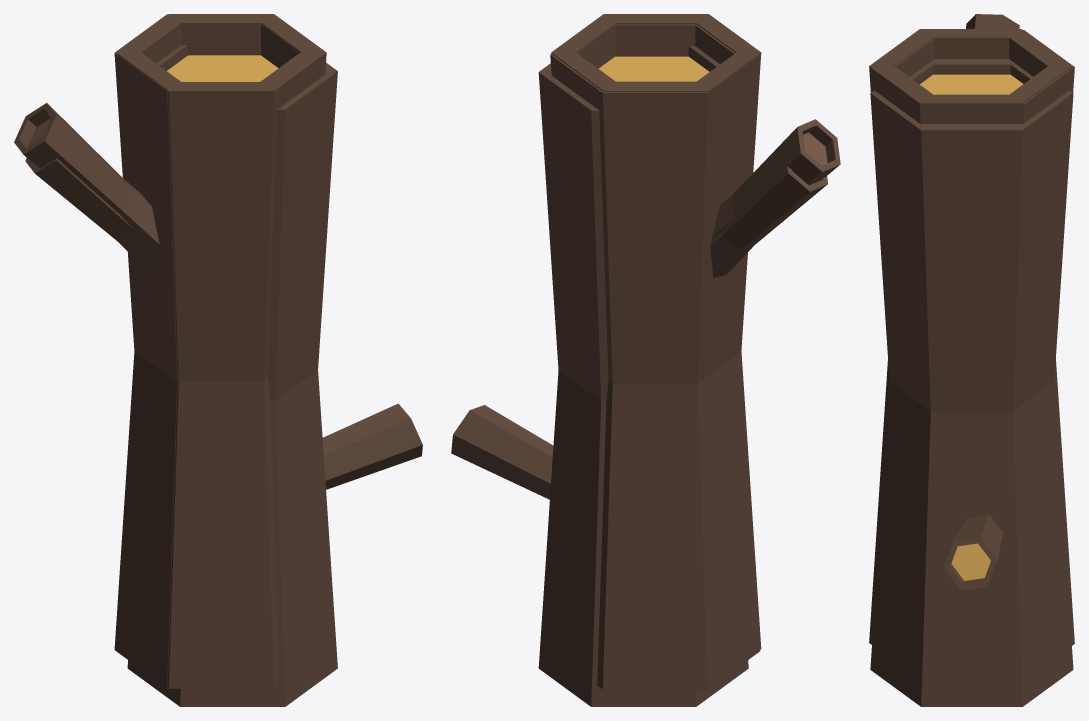
Rendered from logs.glb.
3 views of the same model, side by side, from view 1: azimuth 30°, elevation 25°; view 2: azimuth 150°, elevation 25°; view 3: azimuth 270°, elevation 25° (orthographic). The views are drawn at different scales.
Visible parts, largest first — view 1: Mesh_Log_TwoBranch, Mesh_Log_OneBranch, Mesh_Log; view 2: Mesh_Log, Mesh_Log_OneBranch, Mesh_Log_TwoBranch; view 3: Mesh_Log_OneBranch, Mesh_Log_TwoBranch, Mesh_Log.
Part boxes in pixels (x1,y1,x2,y2): Mesh_Log_TwoBranch: (14, 14, 422, 688); Mesh_Log_OneBranch: (25, 45, 337, 706); Mesh_Log: (114, 14, 300, 688); Mesh_Log: (550, 24, 760, 689); Mesh_Log_OneBranch: (538, 46, 827, 706); Mesh_Log_TwoBranch: (451, 14, 840, 649); Mesh_Log_OneBranch: (870, 59, 1073, 706); Mesh_Log_TwoBranch: (869, 14, 1072, 644); Mesh_Log: (894, 30, 1074, 645).
Bounding box in the file's own units: 0.3366 × 0.5137 × 0.1602.
1 material, 1 textured.
